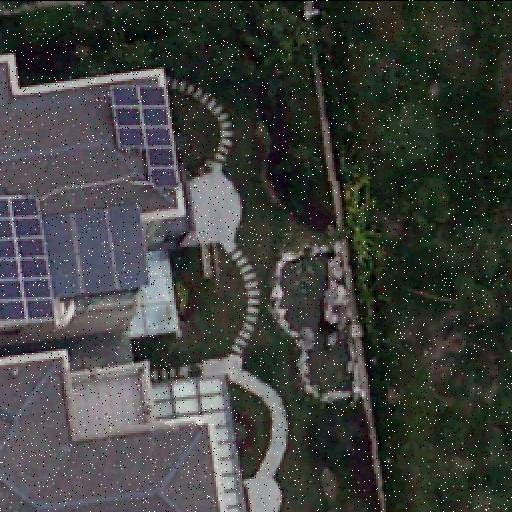solar-panel: (0, 195, 58, 317), (112, 85, 180, 187)
